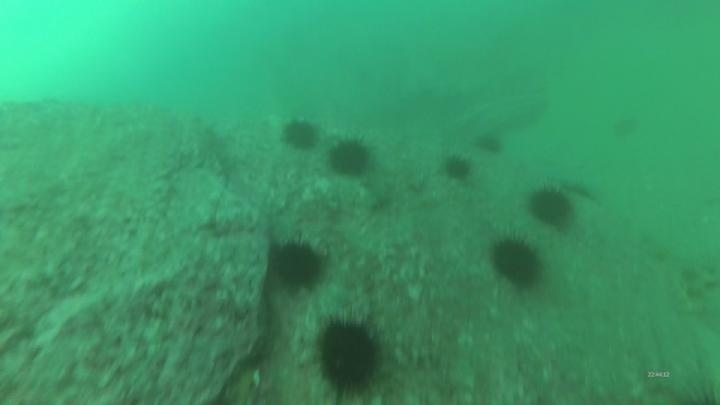echinus: (311, 312, 389, 400), (267, 235, 329, 294), (488, 233, 547, 292), (526, 184, 576, 230), (326, 135, 374, 180), (280, 117, 321, 153), (441, 152, 475, 183), (473, 130, 505, 157), (610, 113, 641, 140)
